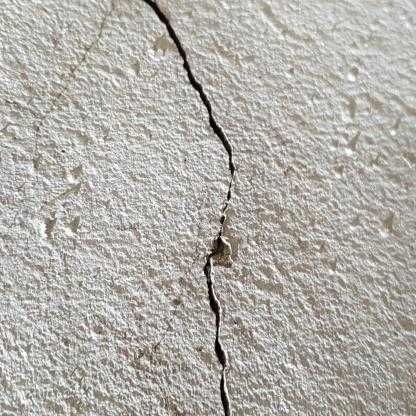crack: (143, 1, 235, 414)
